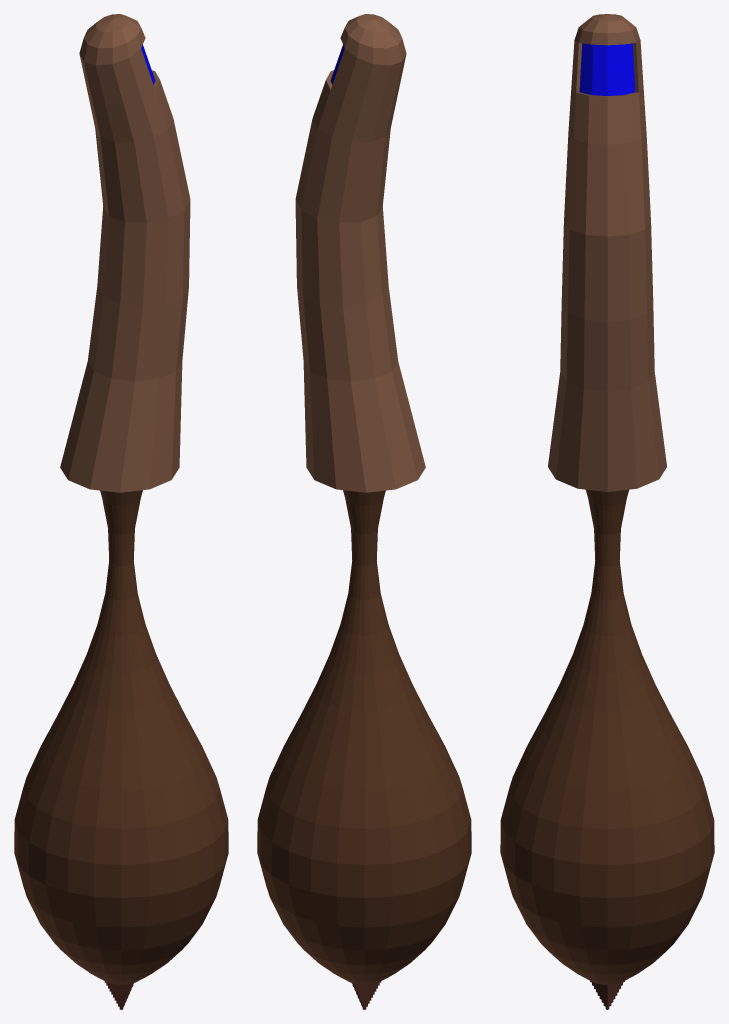
Rendered from Wand 944.glb.
3 views of the same model, side by side, from view 1: azimuth 30°, elevation 25°; view 2: azimuth 150°, elevation 25°; view 3: azimuth 270°, elevation 25° (orthographic).
Parts seen in each view (by area): view 1: GeneratedWand; view 2: GeneratedWand; view 3: GeneratedWand.
Part boxes in pixels (<box>): GeneratedWand: <box>14,14,228,1009</box>; GeneratedWand: <box>257,14,471,1009</box>; GeneratedWand: <box>500,14,714,1009</box>.
Bounding box in the file's own units: 0.1026 × 0.5236 × 0.1026.
